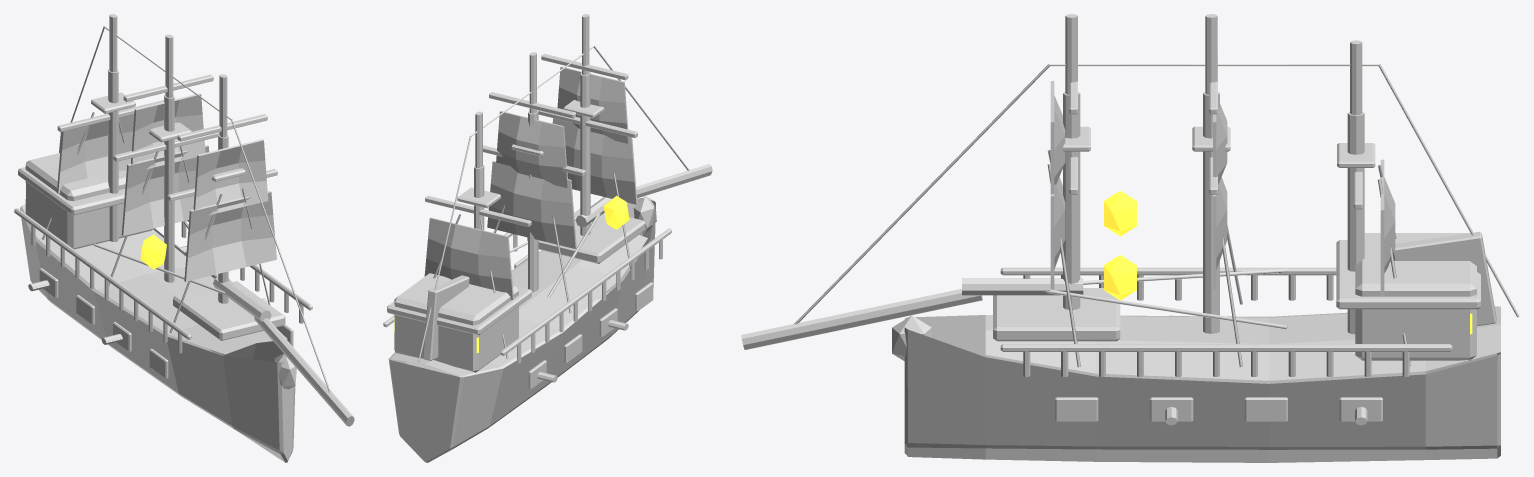
The model's file is enemy_hunter_v04.fbx.
The picture shows the model from 3 angles, left to right: view 1: azimuth 30°, elevation 25°; view 2: azimuth 150°, elevation 25°; view 3: azimuth 270°, elevation 25°; orthographic projection. The views are drawn at different scales.
Visible parts, largest first — view 1: Enemy_Corsair_Hull, Enemy_Corsair_Deck, Sail_1_1, Stern_GreatCabin, Sail_2_1, Sail_1_2, Sail_3_1, Forecastle_Deck, Sail_2_2, Mast_2_Lower, Bowsprit_Main, Mast_3_Lower (+20 smaller); view 2: Enemy_Corsair_Hull, Stern_GreatCabin, Enemy_Corsair_Deck, Sail_2_1, Sail_3_1, Sail_2_2, Sail_1_1, Sail_1_2, Forecastle_Deck, Hunter_Aft_Fin, Mast_1_Lower, Stern_Quarterdeck (+19 smaller); view 3: Enemy_Corsair_Hull, Enemy_Corsair_Deck, Stern_GreatCabin, Forecastle_Deck, Bowsprit_Main, Tier_3_Port_TopRail, Hunter_Aft_Fin, Stern_Quarterdeck, Mast_1_Lower, Mast_3_Lower, Mast_2_Lower, Tier_3_Starboard_TopRail (+20 smaller).
Boxes of the visible parts, left/top/right/bottom form: Enemy_Corsair_Hull: left=20, top=206, right=295, bottom=462; Enemy_Corsair_Deck: left=21, top=204, right=287, bottom=354; Sail_1_1: left=184, top=191, right=276, bottom=281; Stern_GreatCabin: left=25, top=153, right=153, bottom=249; Sail_2_1: left=121, top=145, right=209, bottom=235; Sail_1_2: left=193, top=139, right=268, bottom=215; Sail_3_1: left=56, top=114, right=134, bottom=193; Forecastle_Deck: left=173, top=281, right=285, bottom=340; Sail_2_2: left=131, top=93, right=205, bottom=169; Mast_2_Lower: left=164, top=94, right=174, bottom=282; Bowsprit_Main: left=254, top=317, right=354, bottom=426; Mast_3_Lower: left=108, top=69, right=118, bottom=241; Enemy_Corsair_Hull: left=388, top=198, right=655, bottom=462; Stern_GreatCabin: left=394, top=273, right=518, bottom=372; Enemy_Corsair_Deck: left=390, top=235, right=647, bottom=375; Sail_2_1: left=487, top=161, right=576, bottom=248; Sail_3_1: left=424, top=217, right=513, bottom=299; Sail_2_2: left=496, top=111, right=567, bottom=187; Sail_1_1: left=552, top=118, right=637, bottom=204; Sail_1_2: left=557, top=66, right=628, bottom=143; Forecastle_Deck: left=538, top=208, right=645, bottom=263; Hunter_Aft_Fin: left=423, top=275, right=469, bottom=360; Mast_1_Lower: left=580, top=72, right=590, bottom=235; Stern_Quarterdeck: left=387, top=286, right=531, bottom=335; Enemy_Corsair_Hull: left=904, top=306, right=1500, bottom=462; Enemy_Corsair_Deck: left=985, top=306, right=1500, bottom=380; Stern_GreatCabin: left=1355, top=233, right=1476, bottom=360; Forecastle_Deck: left=993, top=288, right=1120, bottom=341; Bowsprit_Main: left=741, top=289, right=982, bottom=349; Tier_3_Port_TopRail: left=1000, top=344, right=1452, bottom=351; Hunter_Aft_Fin: left=1393, top=231, right=1496, bottom=325; Stern_Quarterdeck: left=1336, top=240, right=1480, bottom=309; Mast_1_Lower: left=1063, top=92, right=1080, bottom=309; Mast_3_Lower: left=1347, top=111, right=1364, bottom=334; Mast_2_Lower: left=1203, top=92, right=1219, bottom=333; Tier_3_Starboard_TopRail: left=1000, top=267, right=1336, bottom=275.
Bounding box in the file's own units: 1.43 × 2.92 × 4.62.
